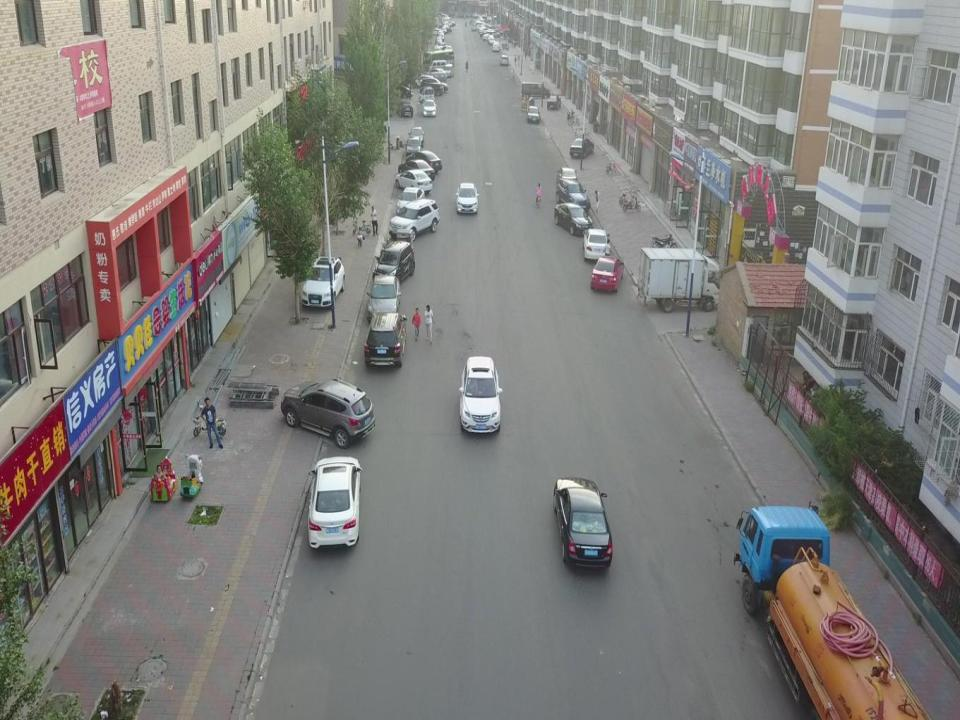bus: (421, 48, 455, 74)
car: (280, 376, 378, 449), (551, 472, 617, 570), (305, 453, 360, 554), (456, 354, 508, 435), (362, 307, 411, 367), (298, 249, 346, 308), (370, 237, 417, 286), (388, 198, 442, 236), (365, 270, 401, 320), (589, 250, 625, 294), (553, 200, 595, 236), (580, 222, 614, 266), (554, 174, 592, 212), (394, 166, 432, 194), (404, 149, 442, 176), (393, 186, 425, 218), (395, 159, 434, 184), (455, 178, 479, 214), (568, 136, 595, 159), (555, 164, 577, 190), (387, 80, 412, 100), (421, 76, 448, 94), (394, 97, 414, 118), (407, 122, 424, 145), (415, 72, 436, 90), (420, 97, 438, 117), (404, 134, 421, 155), (425, 68, 447, 83), (419, 82, 444, 95), (544, 95, 563, 110), (526, 106, 540, 124), (477, 30, 490, 40), (498, 54, 508, 66), (491, 42, 498, 53), (486, 34, 494, 42), (482, 32, 490, 40), (488, 38, 495, 45)
truck: (470, 22, 477, 30)
van: (520, 79, 551, 101), (426, 58, 449, 76), (426, 70, 448, 86), (443, 63, 454, 78)
